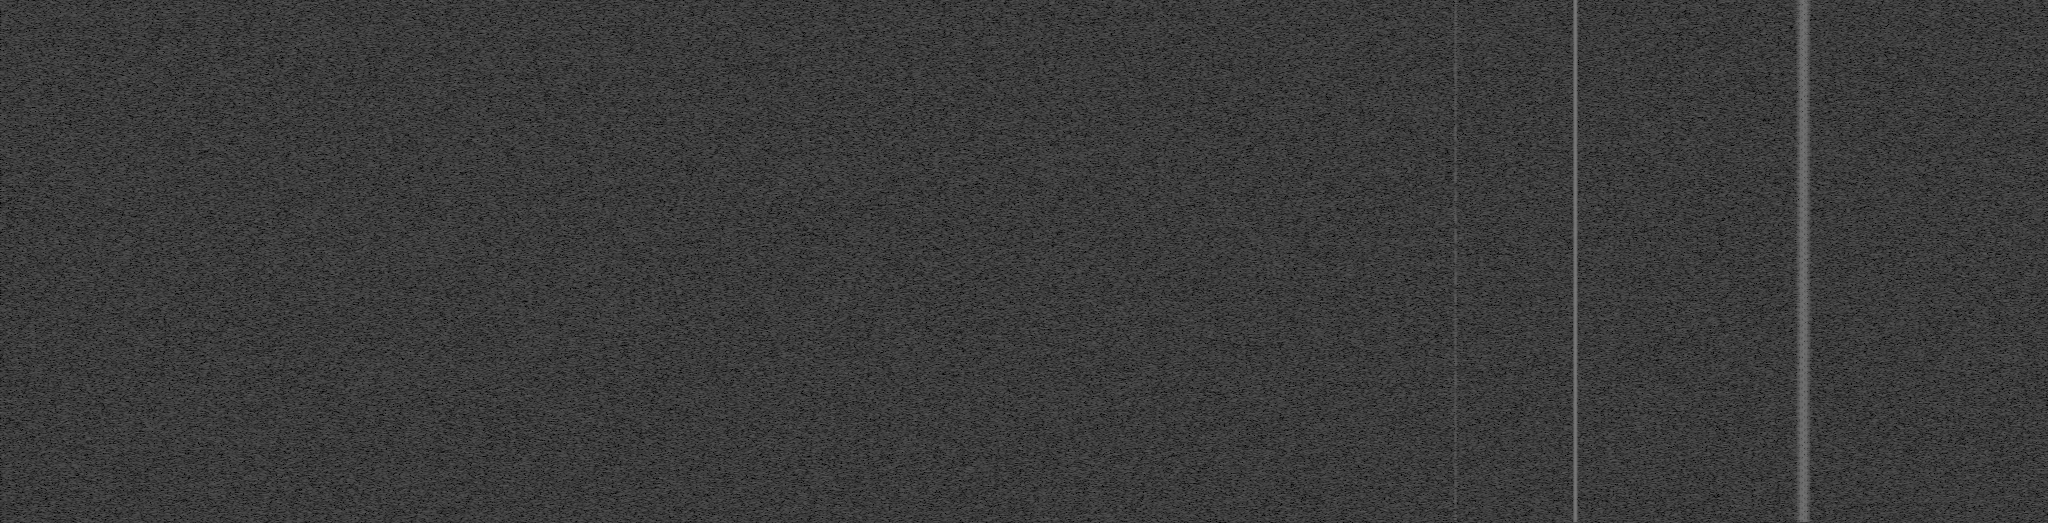wv_am: (1452, 144, 1458, 509), (1452, 0, 1458, 143), (1452, 511, 1458, 522)
wv_cw: (1573, 0, 1578, 522)
wv_wbfm: (1793, 0, 1814, 522)
